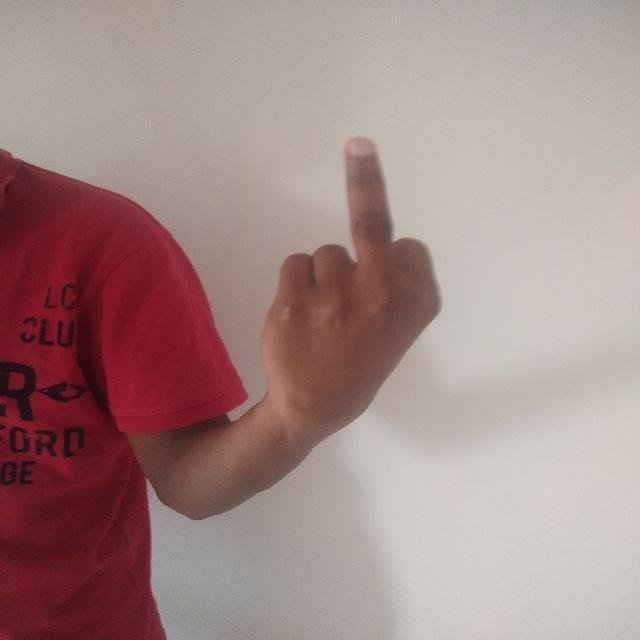Middle Finger: (246, 133, 449, 446)
